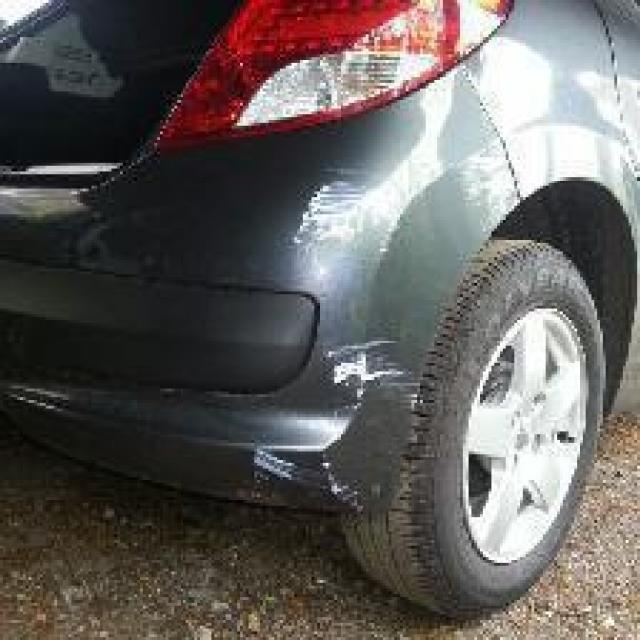damaged: (248, 177, 421, 514), (454, 146, 520, 232), (0, 380, 77, 426)
